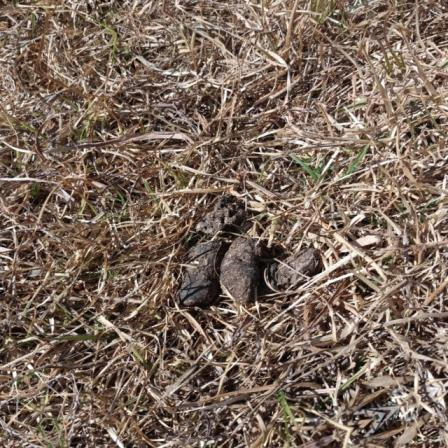dog-poop: (174, 193, 316, 310)
